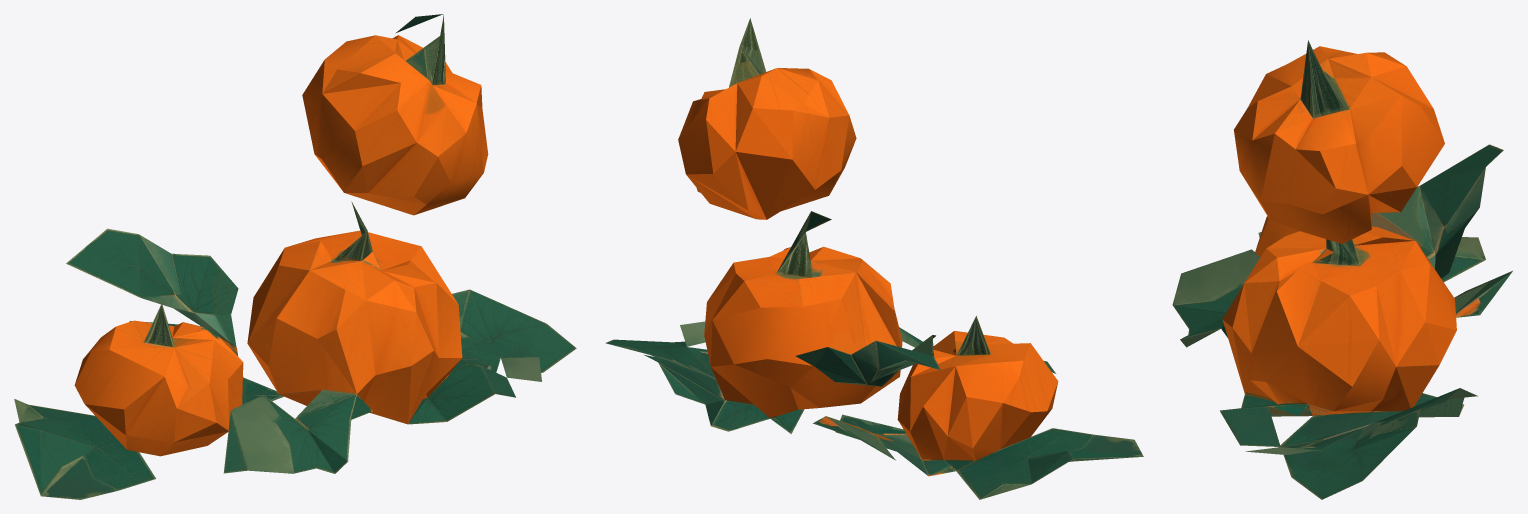
The model's file is pumpkins.glb.
The picture shows the model from 3 angles, left to right: view 1: azimuth 30°, elevation 25°; view 2: azimuth 150°, elevation 25°; view 3: azimuth 270°, elevation 25°; orthographic projection. The views are drawn at different scales.
Parts seen in each view (by area): view 1: geometry_0; view 2: geometry_0; view 3: geometry_0.
Boxes of the visible parts, x1,y1,x2,y2 form: geometry_0: (14,14,576,499); geometry_0: (605,18,1143,499); geometry_0: (1172,40,1512,499).
Bounding box in the file's own units: 1.19 × 0.8 × 0.6126.
1 material, 1 textured.
